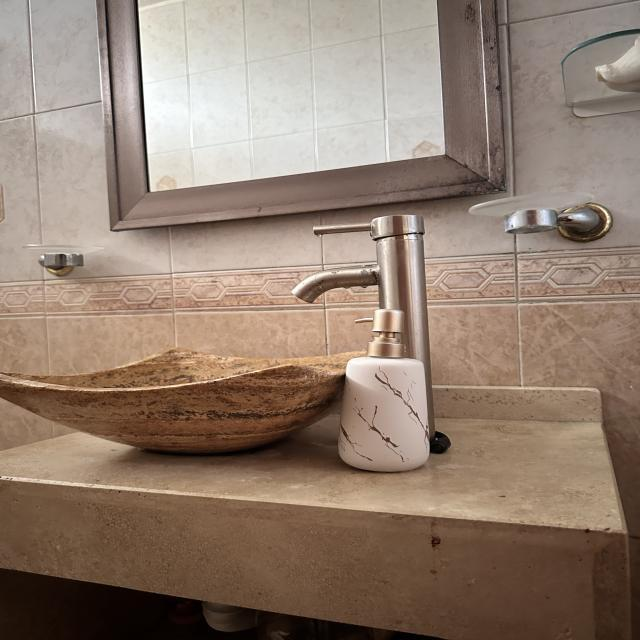hidden camera: (430, 443, 445, 454)
